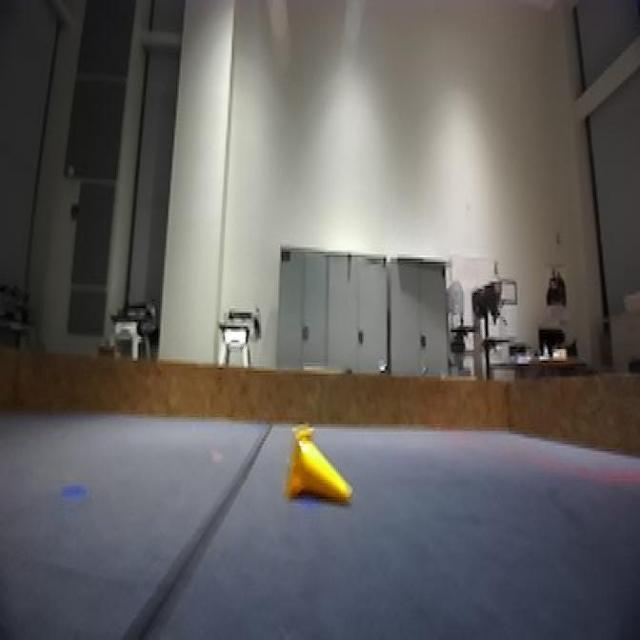frc_cone: (283, 420, 353, 509)
